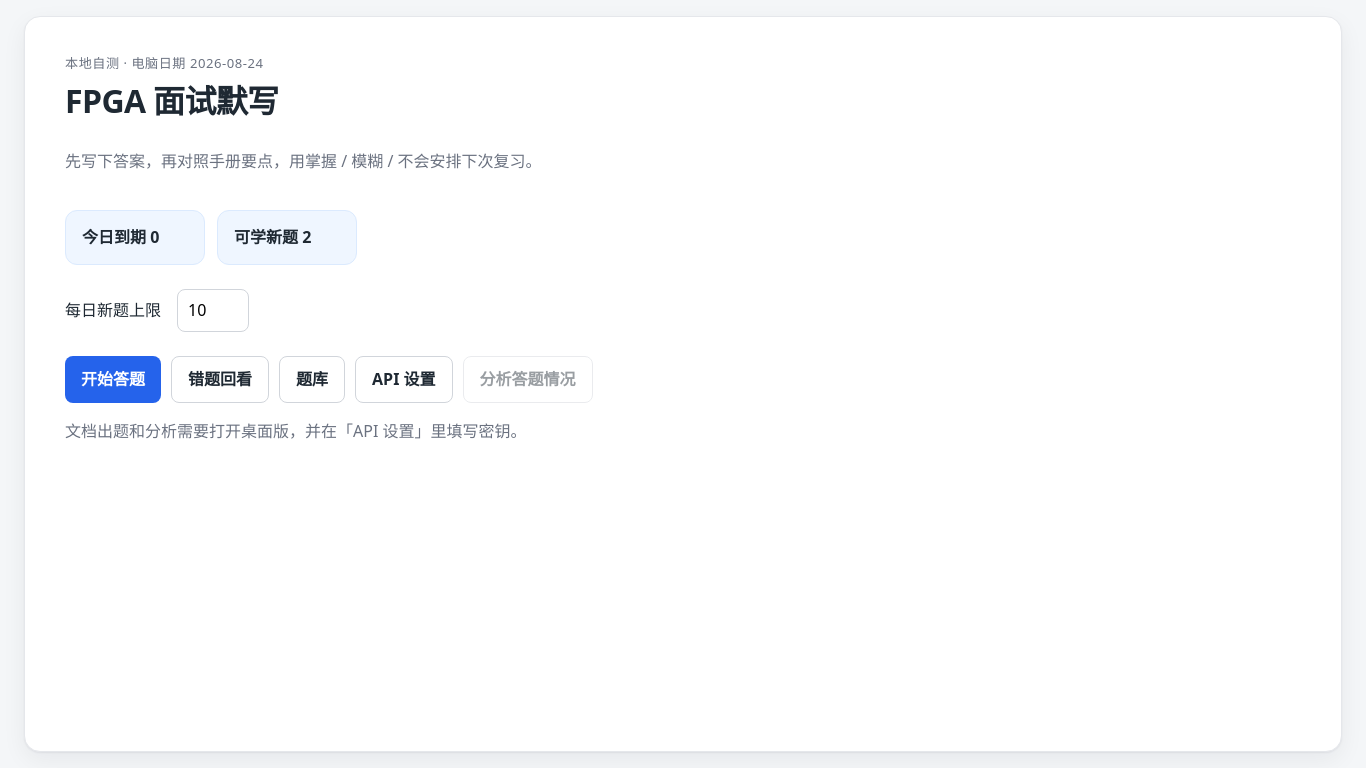
quiz app › shows due and new counts then hides the reference until reveal
The width and height of the screenshot is (1366, 768).
Expected: the heading "FPGA 面试默写" is shown, [65,79,278,122]
Expected: the text "今日到期 0" is shown, [65,210,205,265]
Click the button "开始答题". click: (113, 379)
box: [65,356,161,402]
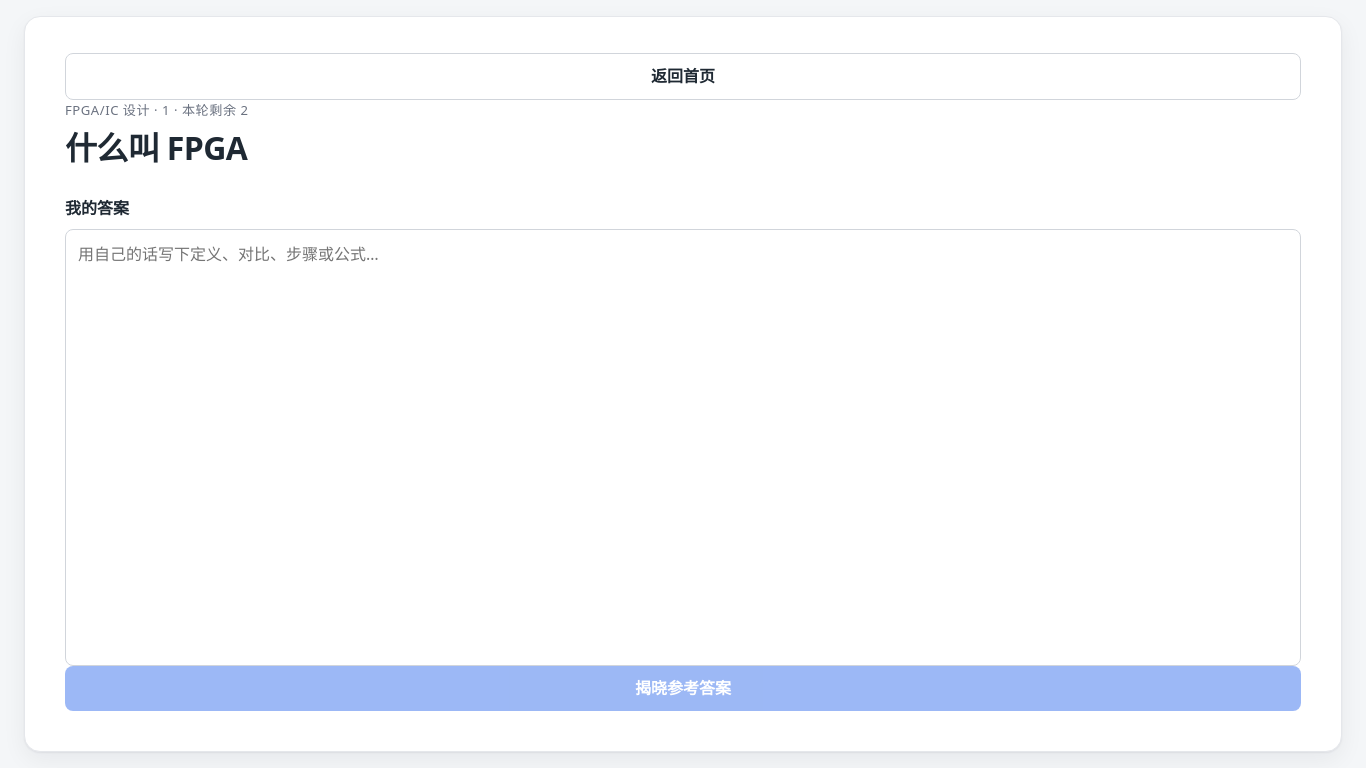
Now the heading "什么叫 FPGA" is shown, box [65,126,247,169]
Now the button "揭晓参考答案" is disabled, box [65,666,1301,711]
